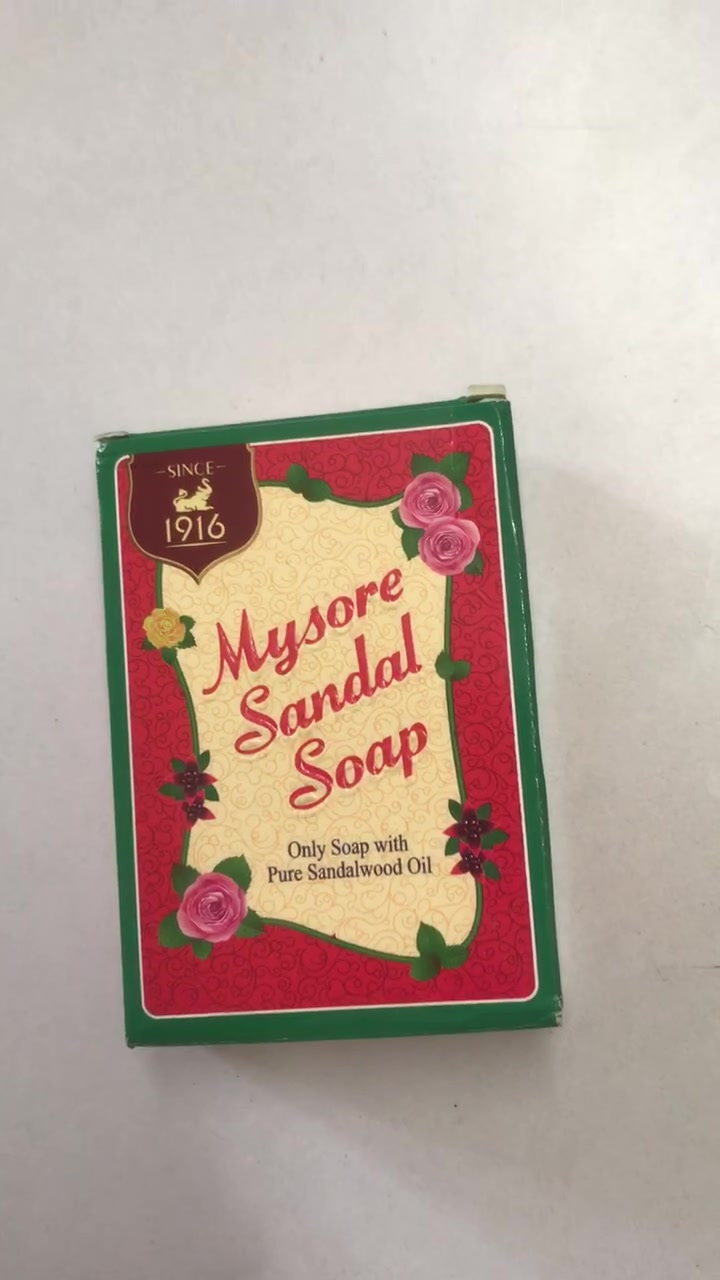mysore sandal soap: (94, 402, 564, 1049)
